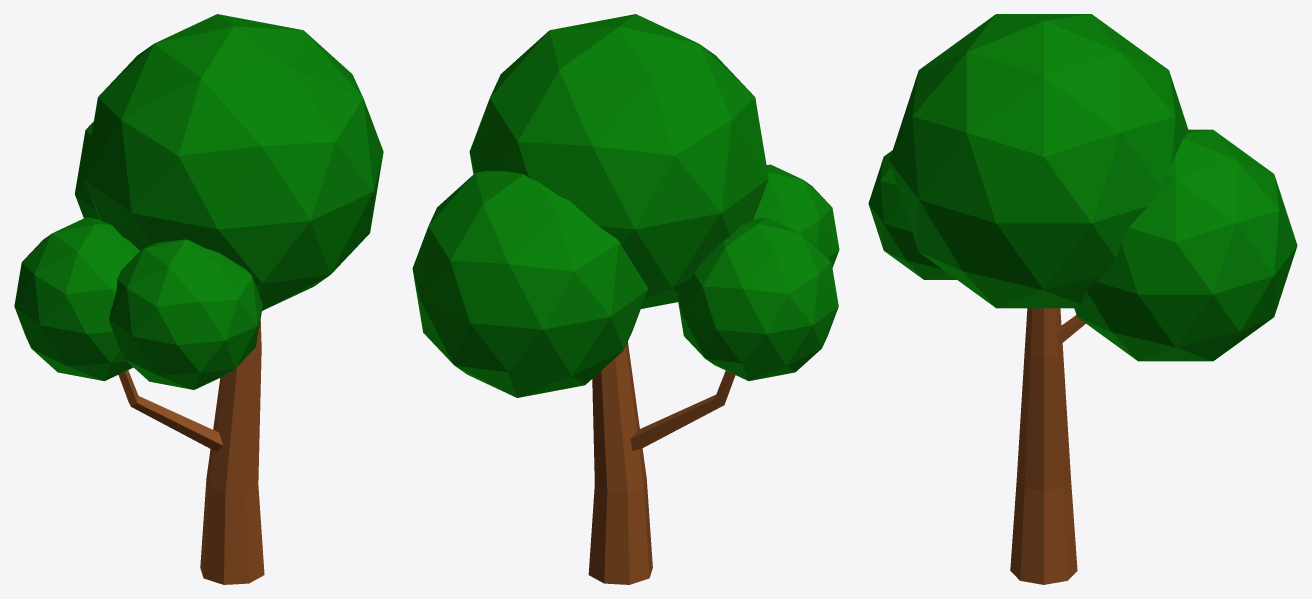
Rendered from tree3.fbx.
3 renders of one model, left to right at view 1: azimuth 30°, elevation 25°; view 2: azimuth 150°, elevation 25°; view 3: azimuth 270°, elevation 25°, orthographic.
Parts seen in each view (by area): view 1: Tree.002; view 2: Tree.002; view 3: Tree.002.
Boxes of the visible parts, box(x1,y1,x2,y2) form: Tree.002: box(14, 14, 383, 584); Tree.002: box(412, 14, 839, 584); Tree.002: box(868, 14, 1297, 584).
Bounding box in the file's own units: 311 × 487 × 344.
